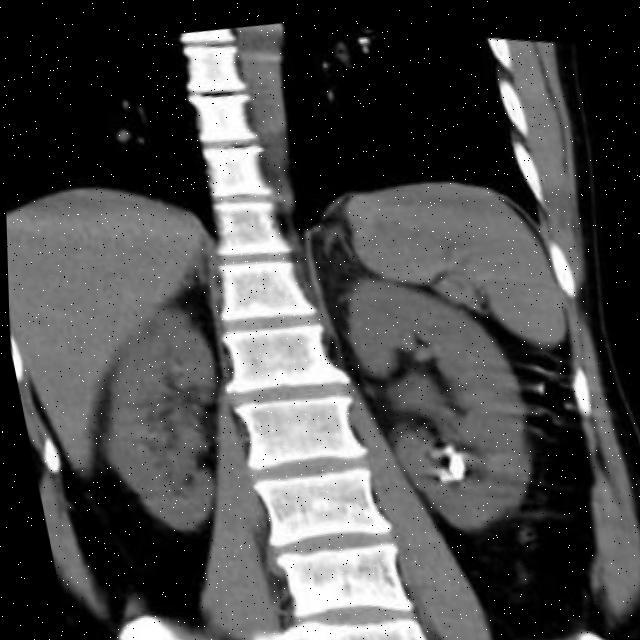Tas_Var: (440, 441, 468, 477), (438, 434, 454, 449), (439, 463, 452, 478), (431, 464, 442, 477), (437, 460, 443, 467)
